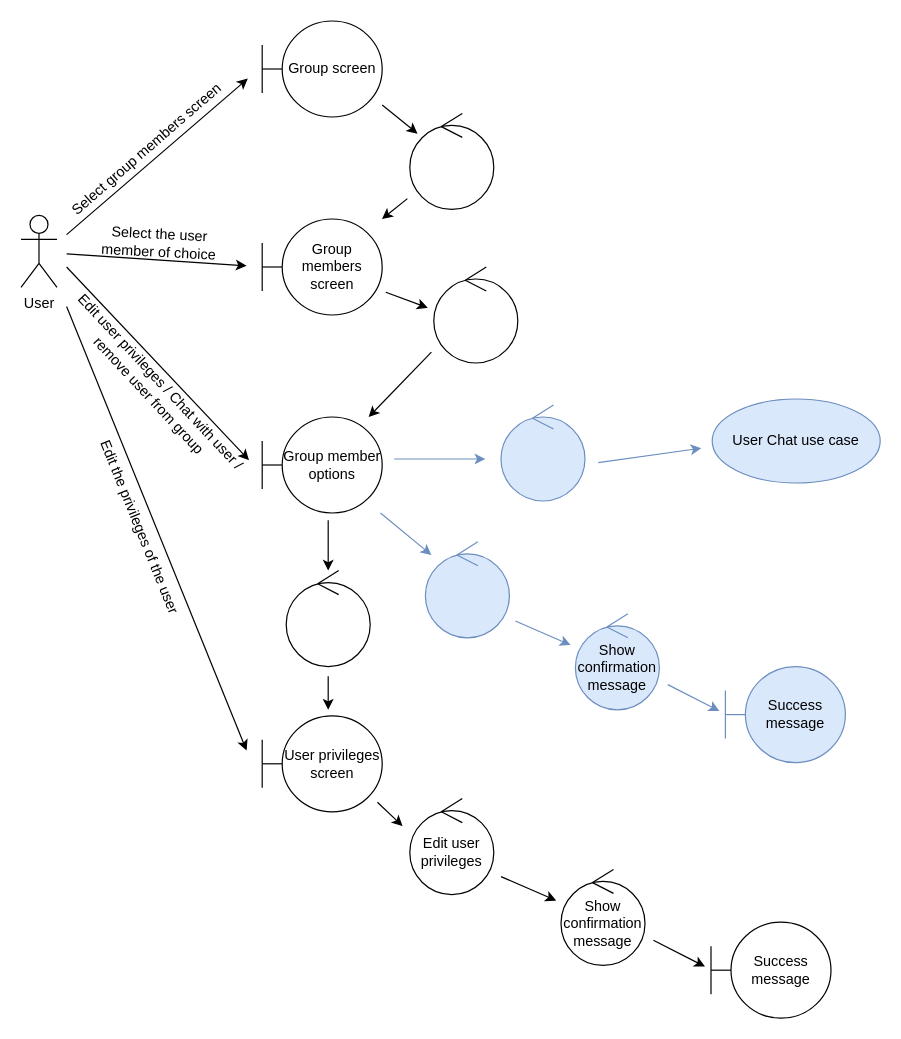
Some shapes in this 901 by 1039 pixel diagram are drawn without their labels. The shapes that lost their labels are listed below. From the top down, each one's centre as x and y in pixels, then its label:
the point at 451,160: Show group members
the point at 475,314: Show member options
the point at 542,452: Open chat with member
the point at 466,589: Remove member from group
the point at 327,618: Show privilege options
